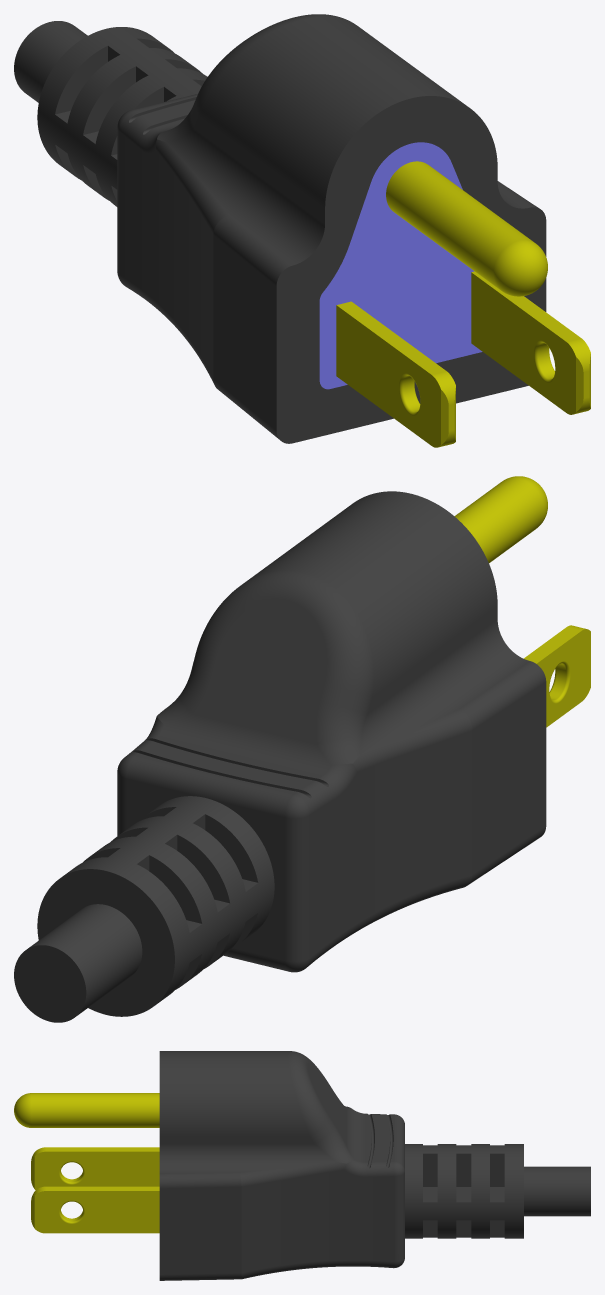
File: Enchufe.fbx
3 views of the same model, one above another, from view 1: azimuth 30°, elevation 25°; view 2: azimuth 150°, elevation 25°; view 3: azimuth 270°, elevation 25° (orthographic). The views are drawn at different scales.
Parts seen in each view (by area): view 1: Enchufe (×7); view 2: Enchufe (×5); view 3: Enchufe (×7).
Boxes of the visible parts, left/top/right/bottom form: Enchufe (×7): left=14, top=14, right=590, bottom=447; Enchufe (×5): left=14, top=476, right=590, bottom=1022; Enchufe (×7): left=14, top=1051, right=590, bottom=1280.
Size of the model in its own units: 25 by 28 by 77.6.
